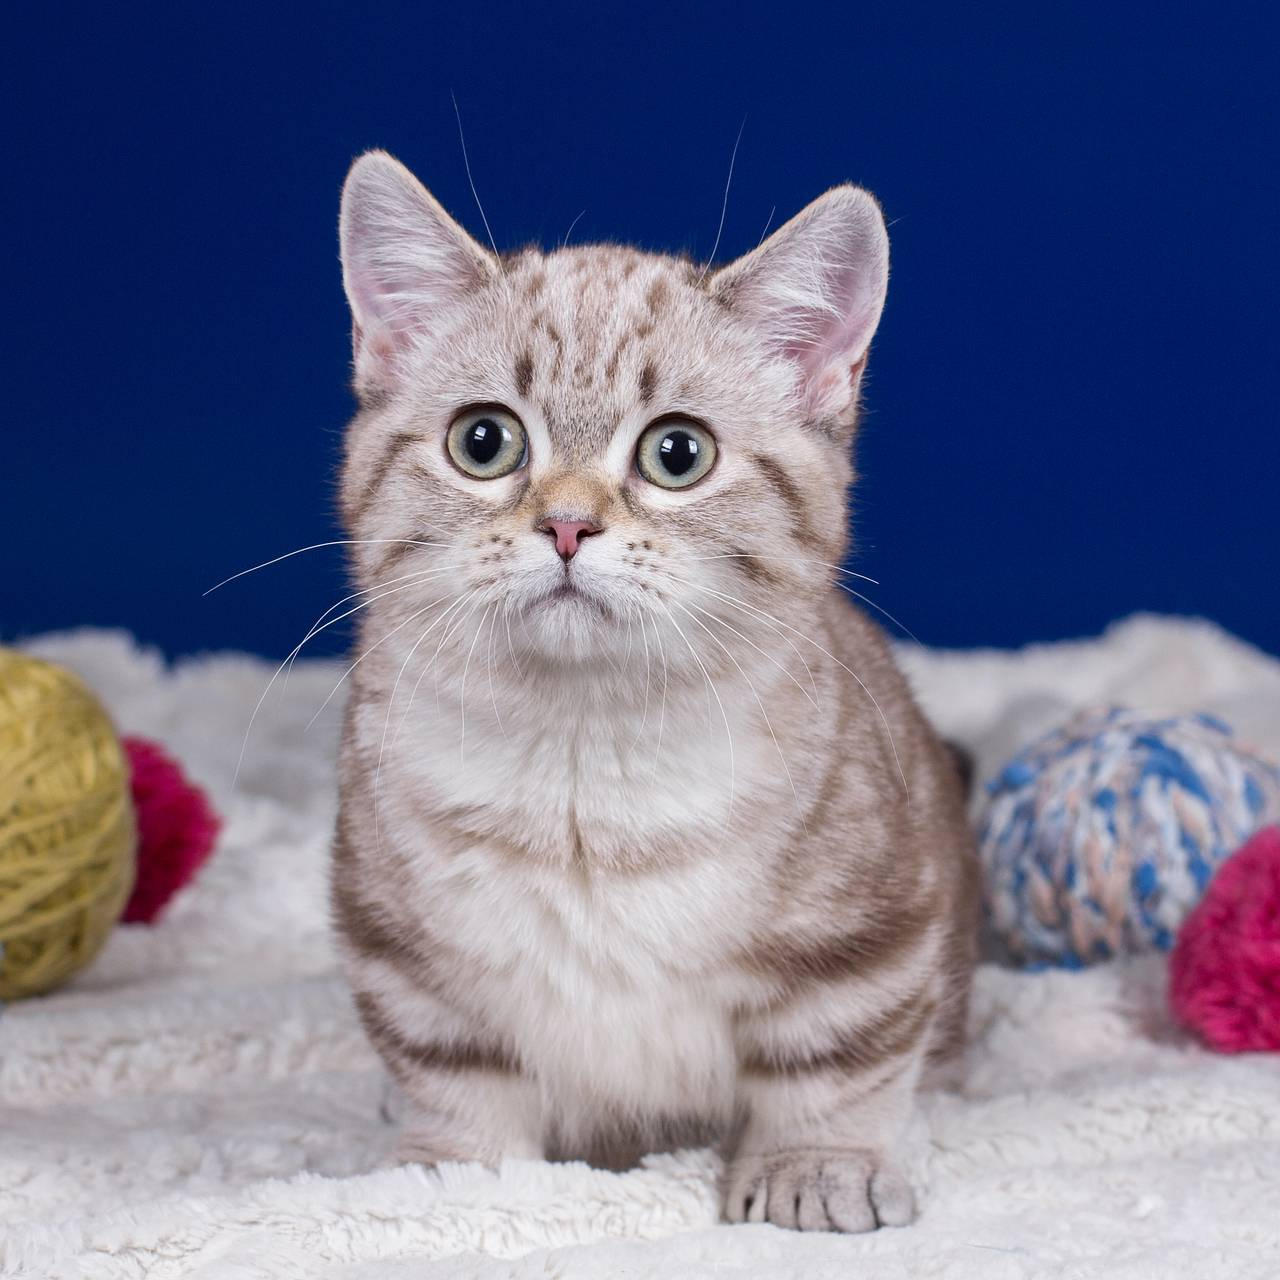cat: (306, 154, 1015, 1225)
